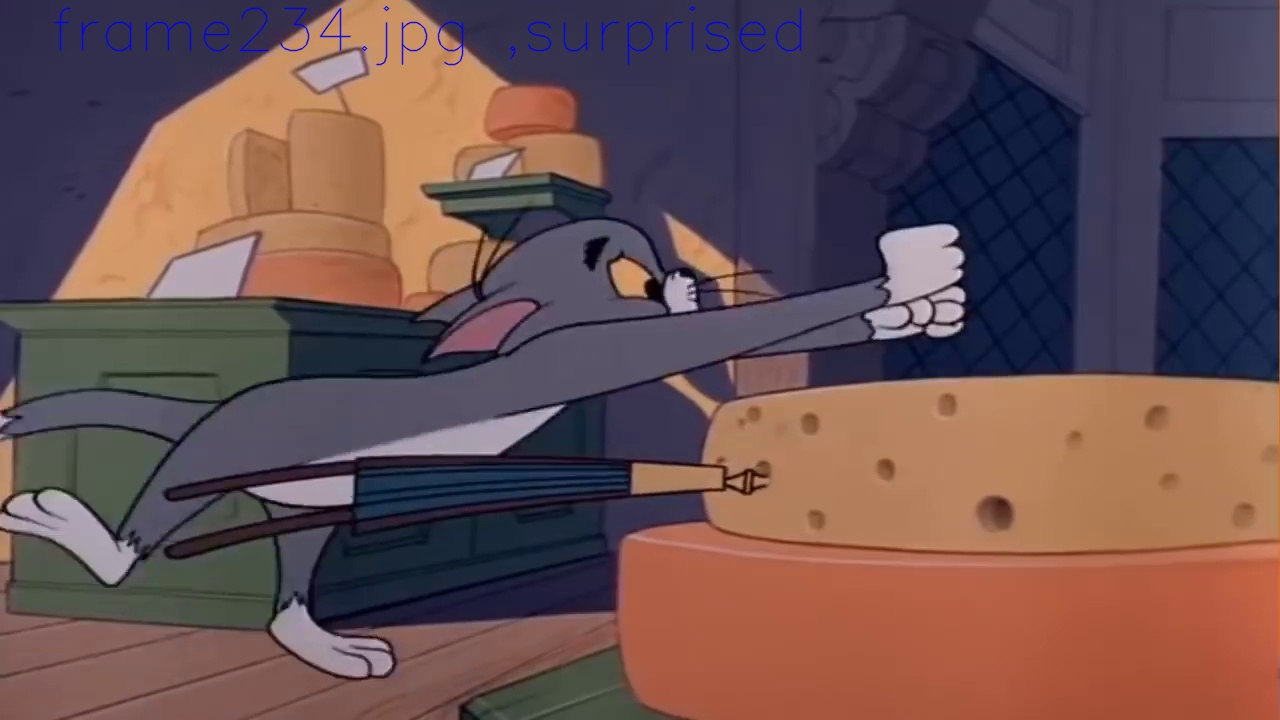surprised: (581, 235, 700, 313)
